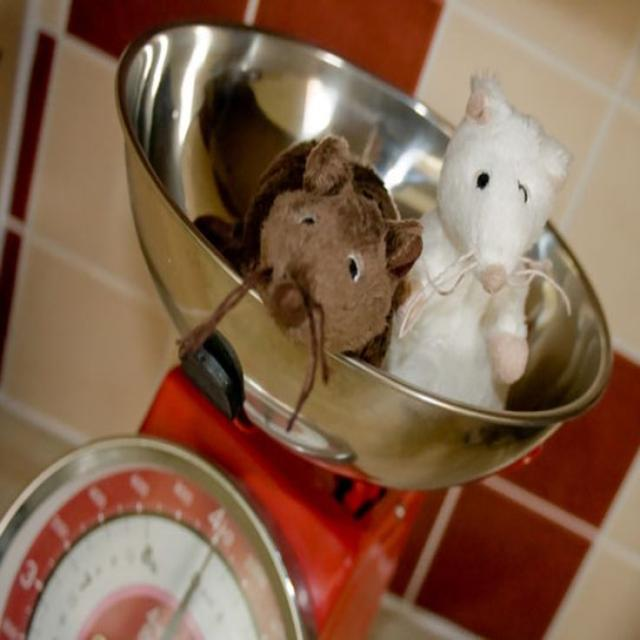rat: (216, 134, 415, 380)
